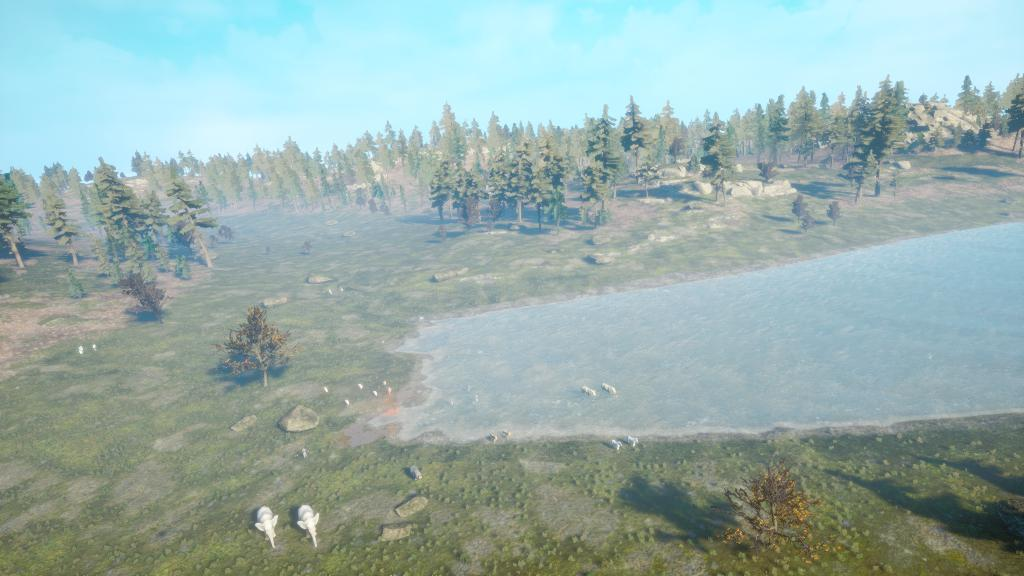Fire: (389, 402, 403, 416)
elephant: (248, 495, 287, 555), (294, 498, 330, 557)
hippopotamus: (402, 458, 445, 494)
human: (298, 444, 321, 466)
lion: (484, 423, 501, 448), (498, 421, 513, 443)
pig: (314, 374, 334, 400)
rhinoceros: (569, 374, 602, 406), (595, 373, 623, 400)
zebra: (625, 425, 652, 458), (608, 437, 629, 460), (67, 339, 87, 363)
